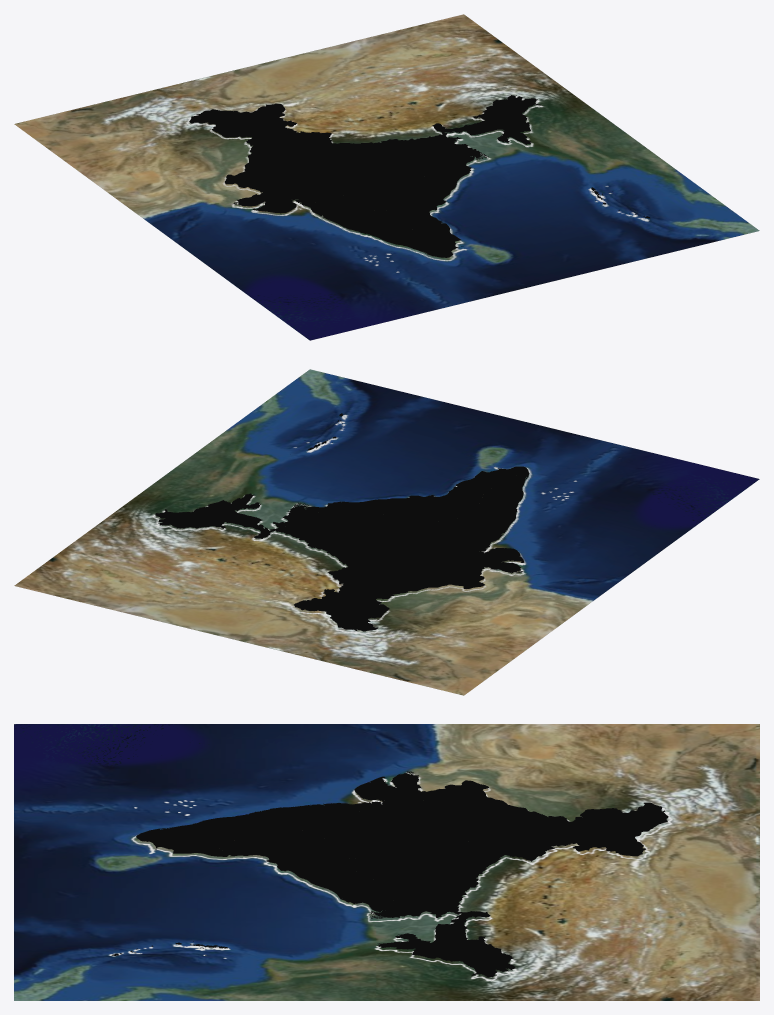
The model's file is indianmap.gltf.
The picture shows the model from 3 angles, top to bottom: view 1: azimuth 30°, elevation 25°; view 2: azimuth 150°, elevation 25°; view 3: azimuth 270°, elevation 25°; orthographic projection. The views are drawn at different scales.
Visible parts, largest first — view 1: Plane, IN-OR; view 2: Plane, IN-OR; view 3: Plane, IN-OR.
Part boxes in pixels (x1,y1,x2,y2): Plane: [14, 14, 759, 340]; IN-OR: [189, 95, 650, 257]; Plane: [14, 369, 759, 695]; IN-OR: [155, 413, 529, 631]; Plane: [14, 724, 759, 1000]; IN-OR: [111, 771, 668, 977].
Bounding box in the file's own units: 22.67 × 0.0938 × 25.83.
2 materials, 1 textured.
